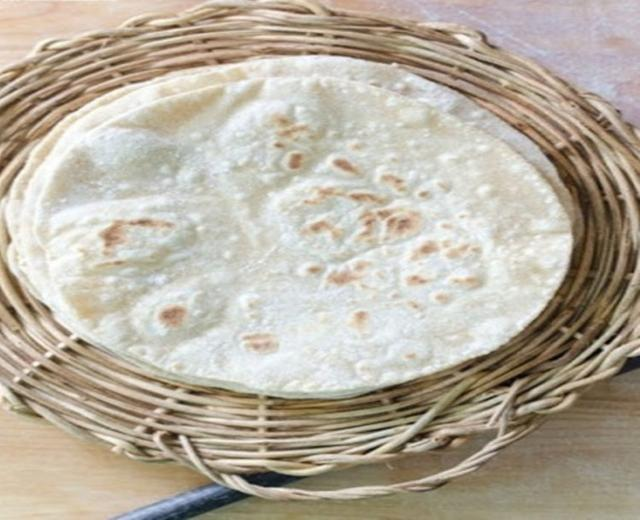chapati: (10, 59, 572, 396)
